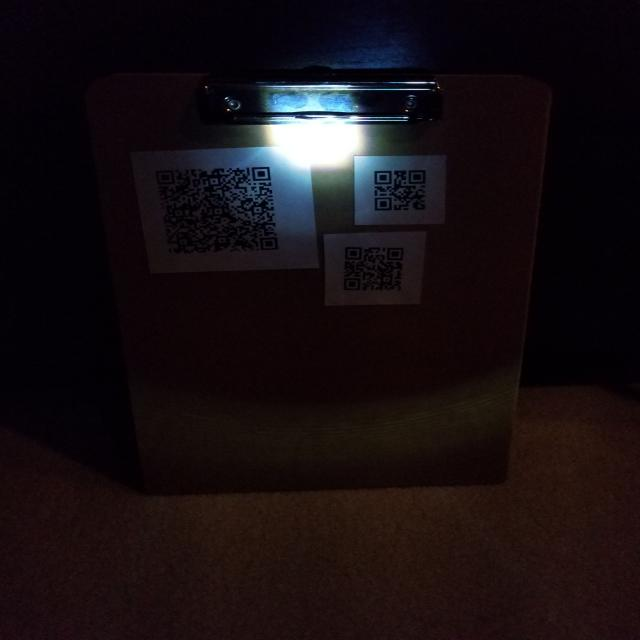QR_CODE: (147, 155, 285, 265), (327, 237, 417, 302), (366, 157, 440, 219)
